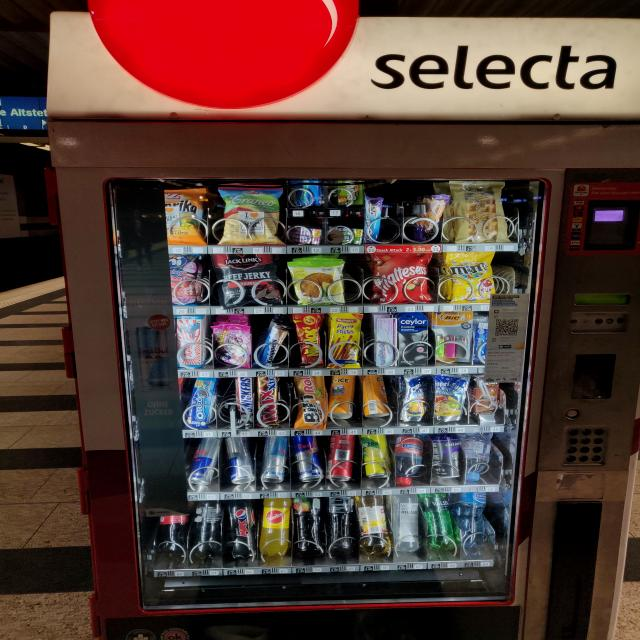airwaves_menthoneucalyptus_riegel_14_1_50173167: (288, 177, 323, 206)
bifi_roll__50__4251097402635: (294, 376, 329, 432)
c-swiss_dosenabisicetea__33__9120025930135: (356, 375, 388, 419), (325, 374, 357, 418)
caferoyal_classicmacchiato__33__7617014164487: (430, 433, 468, 482)
caprisun_multivitamin__20__4000177605004: (433, 373, 476, 424), (394, 374, 436, 423)
coke__dose_33__54491472: (324, 434, 358, 483)
coke__flasche_50__54491472: (155, 504, 189, 556)
coke_zero_flasche_50__5449000131836: (186, 498, 226, 562)
comella_schokodrink__33__7613100037253: (469, 375, 501, 415)
evian___50__3068320353500: (459, 430, 497, 480)
fini_galaxymix_packung_100_1_8410525150364: (163, 251, 202, 305)
fini_jellykisses_packung_80_1_8410525116704: (212, 319, 258, 371)
fuse_lemon__50__5449000235947: (325, 498, 356, 558)
fuse_lemon_dose_33__5449000235947: (363, 436, 392, 479)
fuse_peach__50__5449000236623: (294, 498, 325, 560)
henniez_blau__33__7610235000442: (452, 492, 491, 554)
henniez_rot__33__7610235000442: (394, 433, 427, 486)
jacklinks_beefjerkyorginal__25__4047751730219: (218, 253, 285, 310)
jlbrichard_gauffre__90__5410495002000: (453, 178, 511, 244)
kagi_specialedition__50__7610046000259: (177, 317, 206, 368)
knoppers_riegel____4035800488808: (258, 323, 291, 368)
lorenz_nicnacs__40__4018077798818: (297, 312, 326, 368)
malburner_partysticks__40__7610200279682: (328, 313, 364, 369)
maltesers___100__5000159023061: (378, 252, 438, 306)
mnms_gelb__45__40111445: (446, 250, 500, 308)
oreo___66__84100733: (184, 379, 220, 429)
pepsi_max__50__4060800105943: (225, 498, 258, 561)
ramseier_schorle__50__7610057012456: (356, 494, 388, 557)
redbull___33__90162909: (218, 433, 258, 485), (293, 434, 326, 482), (189, 439, 220, 487)
redbull_light__33__90162800: (256, 436, 291, 483)
sinalco_orange__50__4018715000112: (258, 495, 292, 558)
skittles_sour_riegel_51_1_0000000000004: (339, 180, 367, 205)
snickers___50__5000159461122: (233, 378, 254, 429)
stimorol_spearmint_riegel_14_1_0000000000005: (326, 226, 366, 245)
stimorol_wildcherry_riegel_14_1_57060330: (290, 225, 326, 243)
twix___50__5000159459228: (256, 376, 284, 431)
valser_classic__50__76404160: (421, 492, 456, 548)
vitaminwell_reload__50__7350042716388: (388, 495, 420, 554)
zweifel_graneochilli__100__7610095184009: (215, 184, 289, 244)
zweifel_paprika__90__7610095013002: (154, 183, 208, 246)
